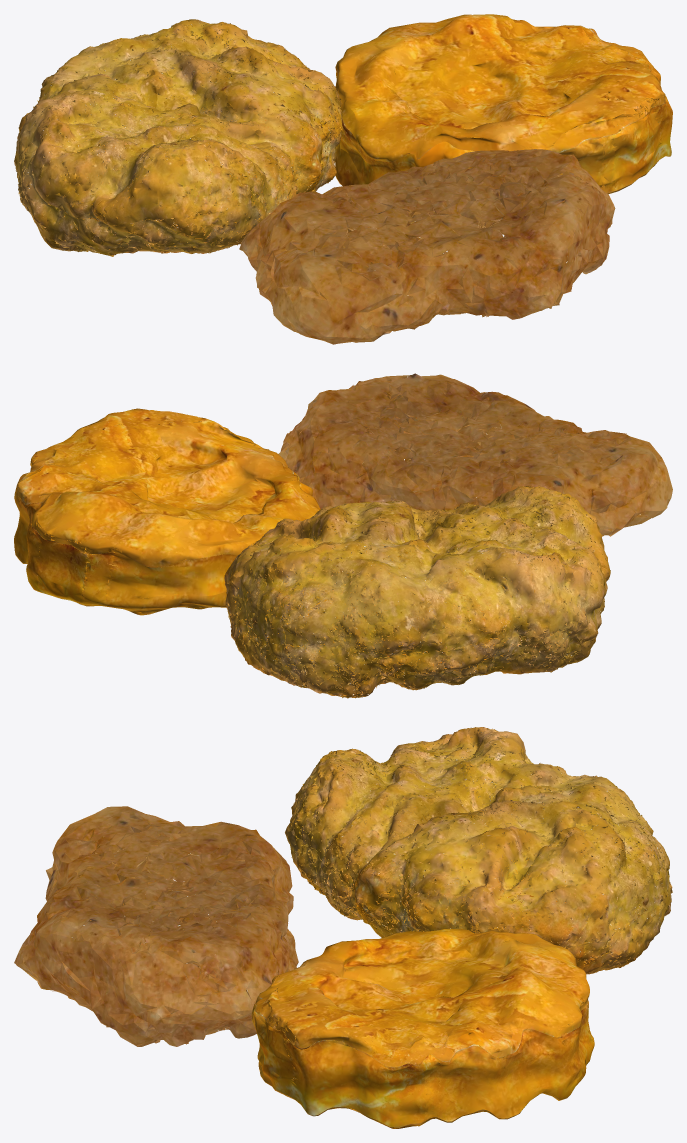
The model's file is nuggets.glb.
3 renders of one model, top to bottom at view 1: azimuth 30°, elevation 25°; view 2: azimuth 150°, elevation 25°; view 3: azimuth 270°, elevation 25°, orthographic. The views are drawn at different scales.
Parts seen in each view (by area): view 1: nuggets; view 2: nuggets; view 3: nuggets.
Boxes of the visible parts, x1=… form: nuggets: x1=14, y1=14, x2=672, y2=344; nuggets: x1=14, y1=373, x2=672, y2=698; nuggets: x1=14, y1=727, x2=672, y2=1128.
Bounding box in the file's own units: 93.08 × 21.55 × 86.55.
Materials: 3 (3 with a texture image).
